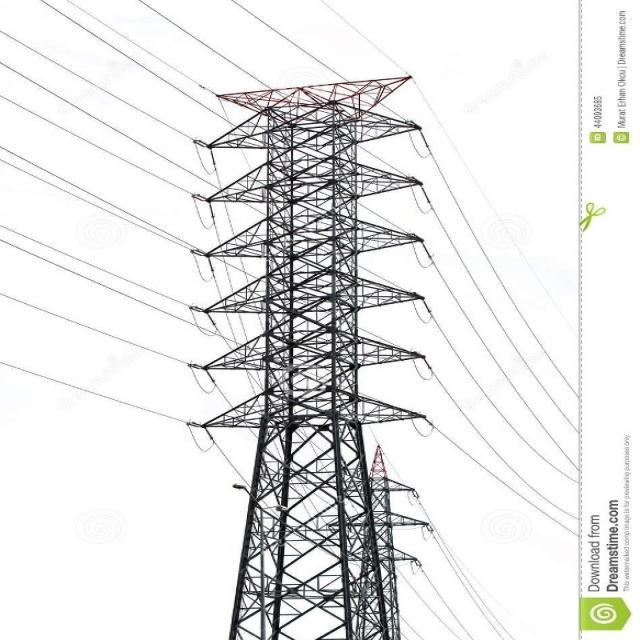non-critical vegetation: (184, 72, 443, 636)
